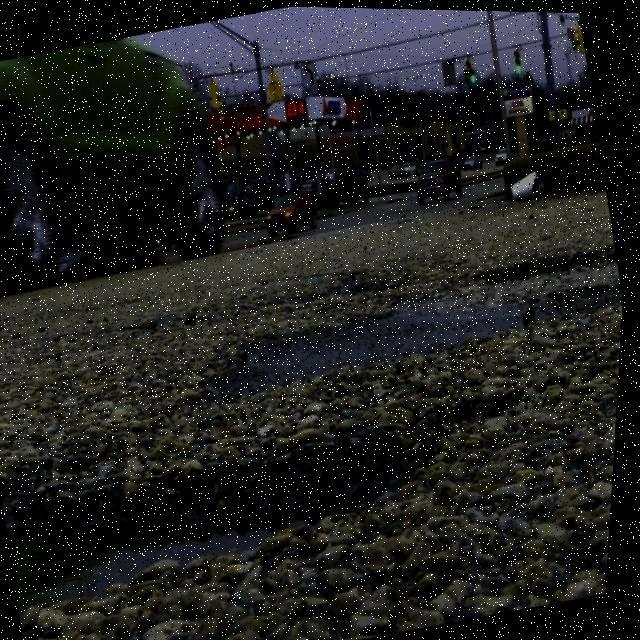pothole: (0, 398, 429, 636)
